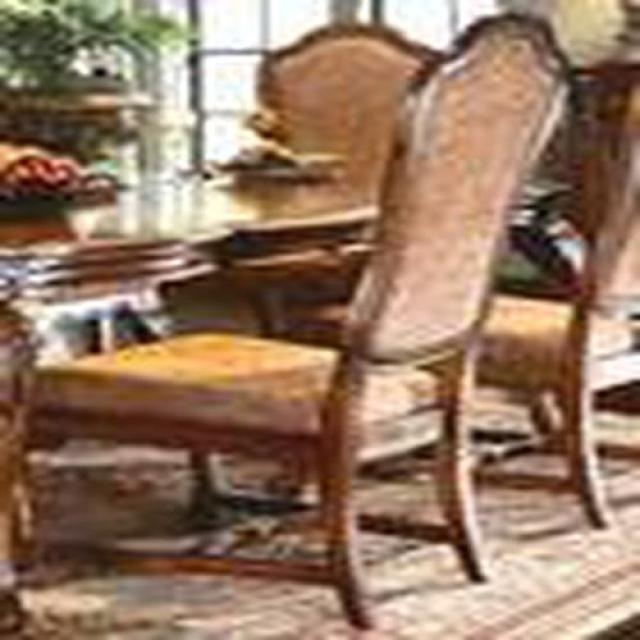chair: (0, 13, 571, 640)
